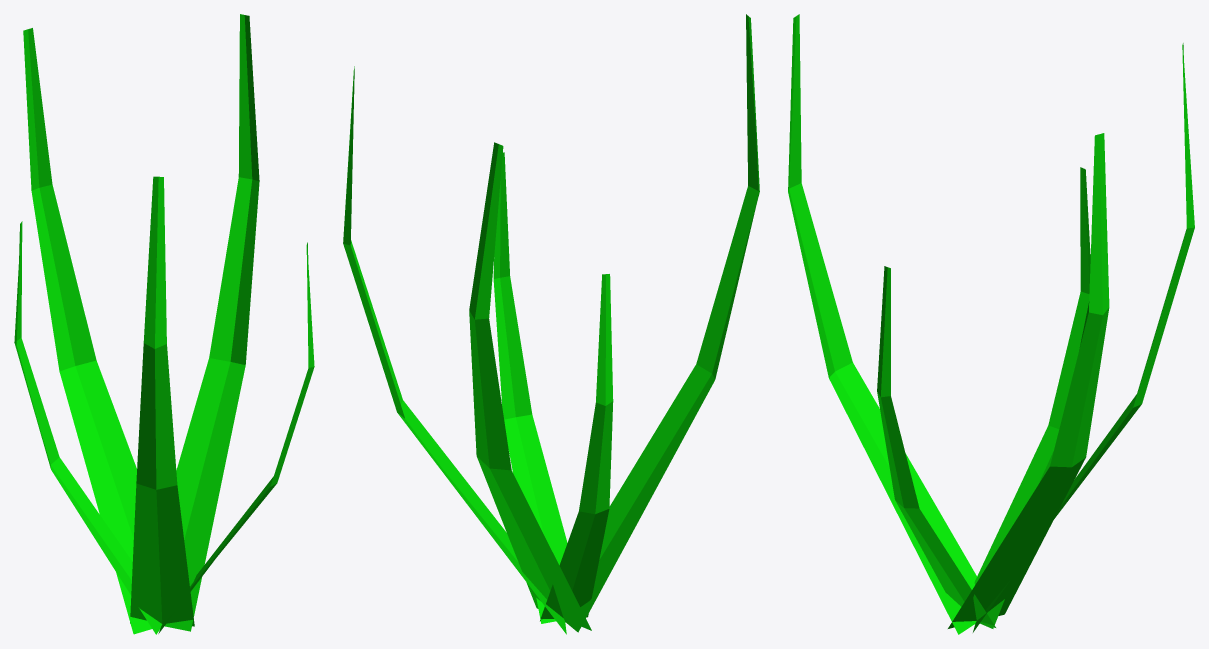
The model's file is hierba.fbx.
3 renders of one model, left to right at view 1: azimuth 30°, elevation 25°; view 2: azimuth 150°, elevation 25°; view 3: azimuth 270°, elevation 25°, orthographic. The views are drawn at different scales.
Visible parts, largest first — view 1: Plane; view 2: Plane; view 3: Plane.
Boxes of the visible parts, x1,y1,x2,y2 form: Plane: (14, 14, 314, 634); Plane: (343, 14, 759, 634); Plane: (788, 14, 1194, 634).
Bounding box in the file's own units: 89.76 × 182 × 119.
1 material, 1 textured.
